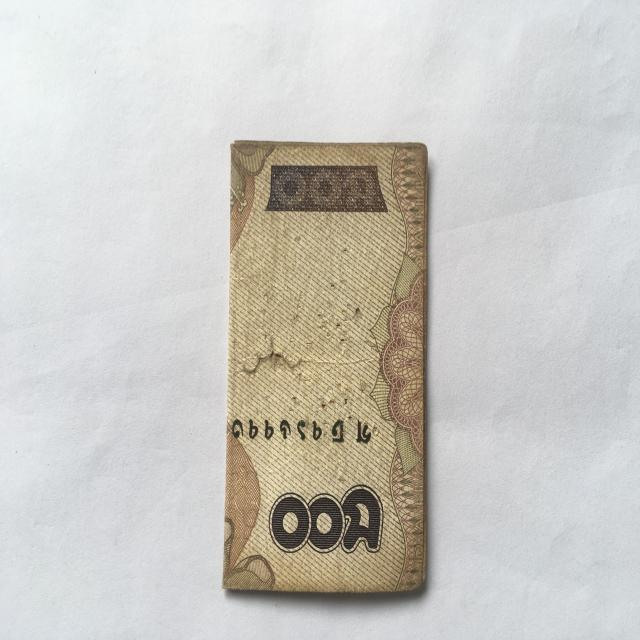Taka: (222, 129, 433, 599)
